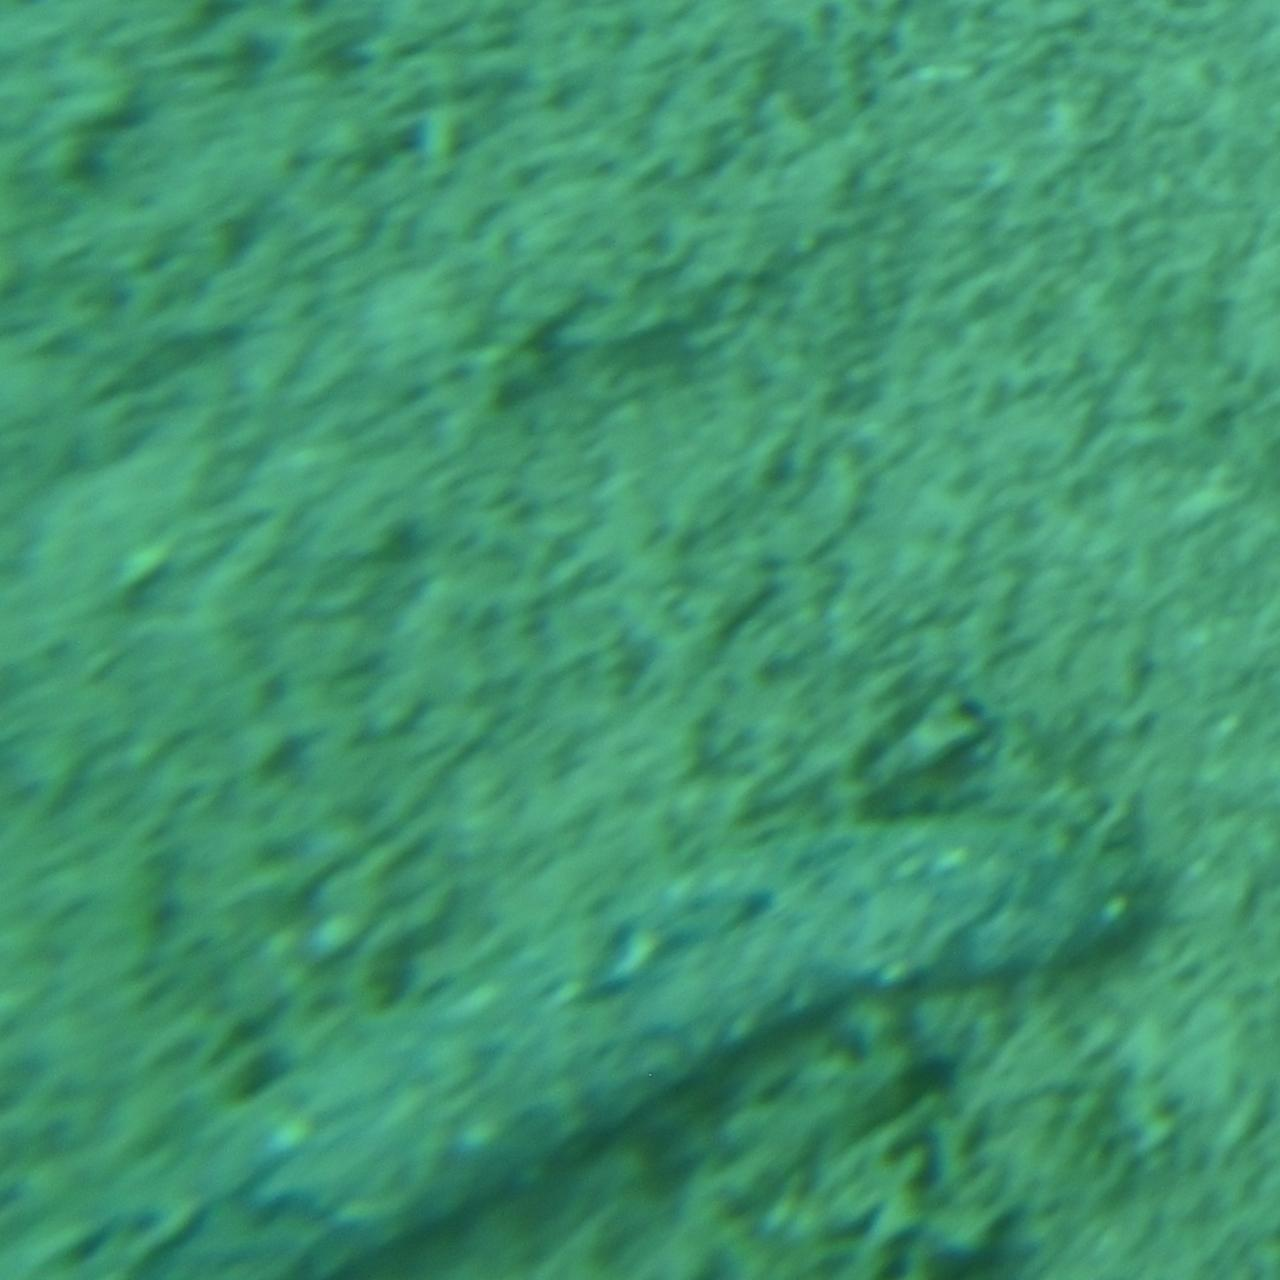Holothuria tubulosa: (0, 803, 1171, 1280)
